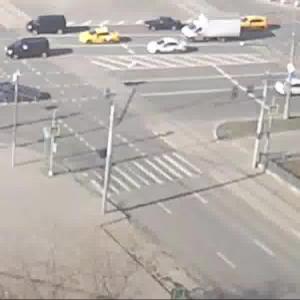car: (188, 17, 244, 48), (76, 28, 131, 50), (6, 35, 51, 61), (27, 12, 68, 37), (141, 40, 189, 57), (235, 13, 269, 33), (148, 19, 182, 36), (1, 78, 21, 105), (275, 76, 300, 93)
